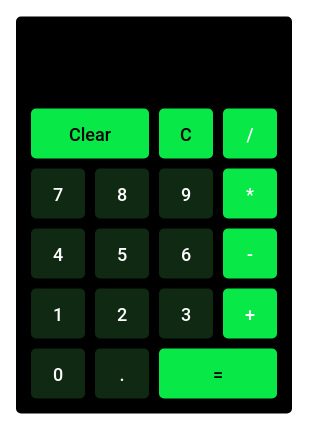
Backspace button
Click the button "3" at [186, 314], box x1=159 y1=288 x2=213 y2=338
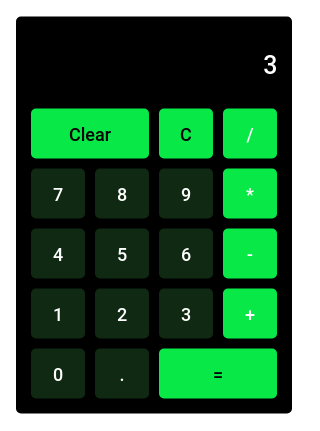
Click the button "4" at [58, 254], box x1=31 y1=228 x2=85 y2=278
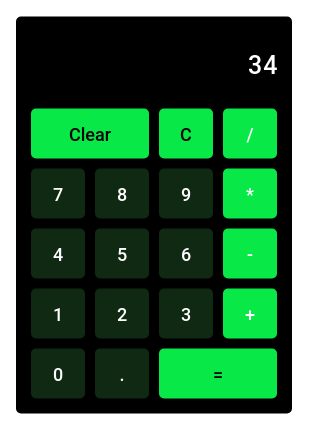
Click the button "5" at [122, 254], box x1=95 y1=228 x2=149 y2=278
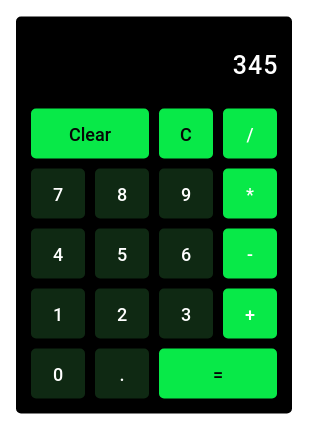
Check: the field holds "345", box x1=28 y1=26 x2=280 y2=104
Click the button "C" at [186, 134], box x1=159 y1=108 x2=213 y2=158
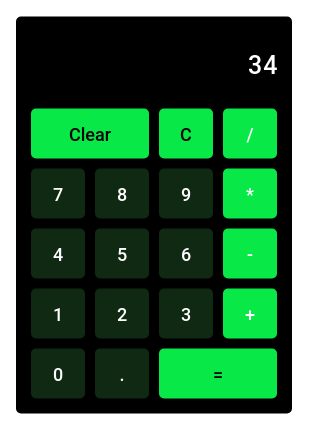
Check: the field holds "34", box x1=28 y1=26 x2=280 y2=104
Click the button "C" at [186, 134], box x1=159 y1=108 x2=213 y2=158
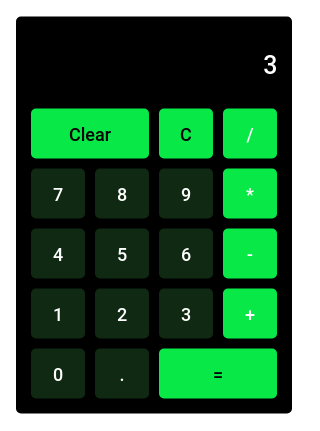
Check: the field holds "3", box x1=28 y1=26 x2=280 y2=104
